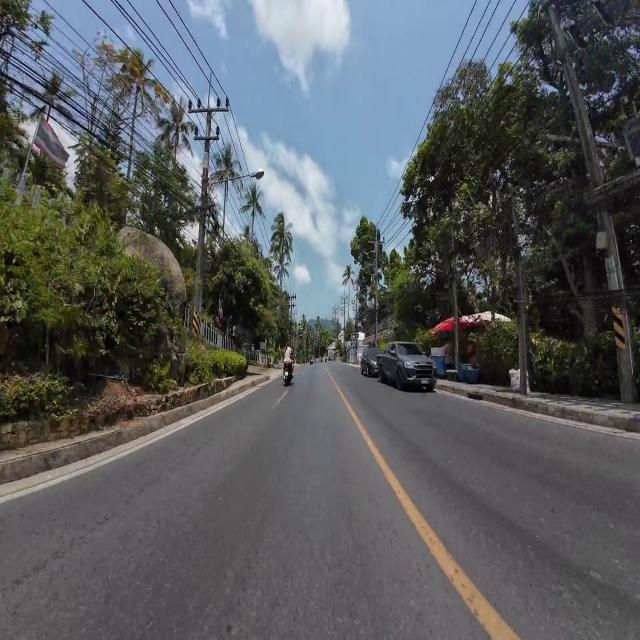car: (378, 342, 436, 390), (361, 347, 381, 376)
motorcycle: (283, 361, 293, 385)
